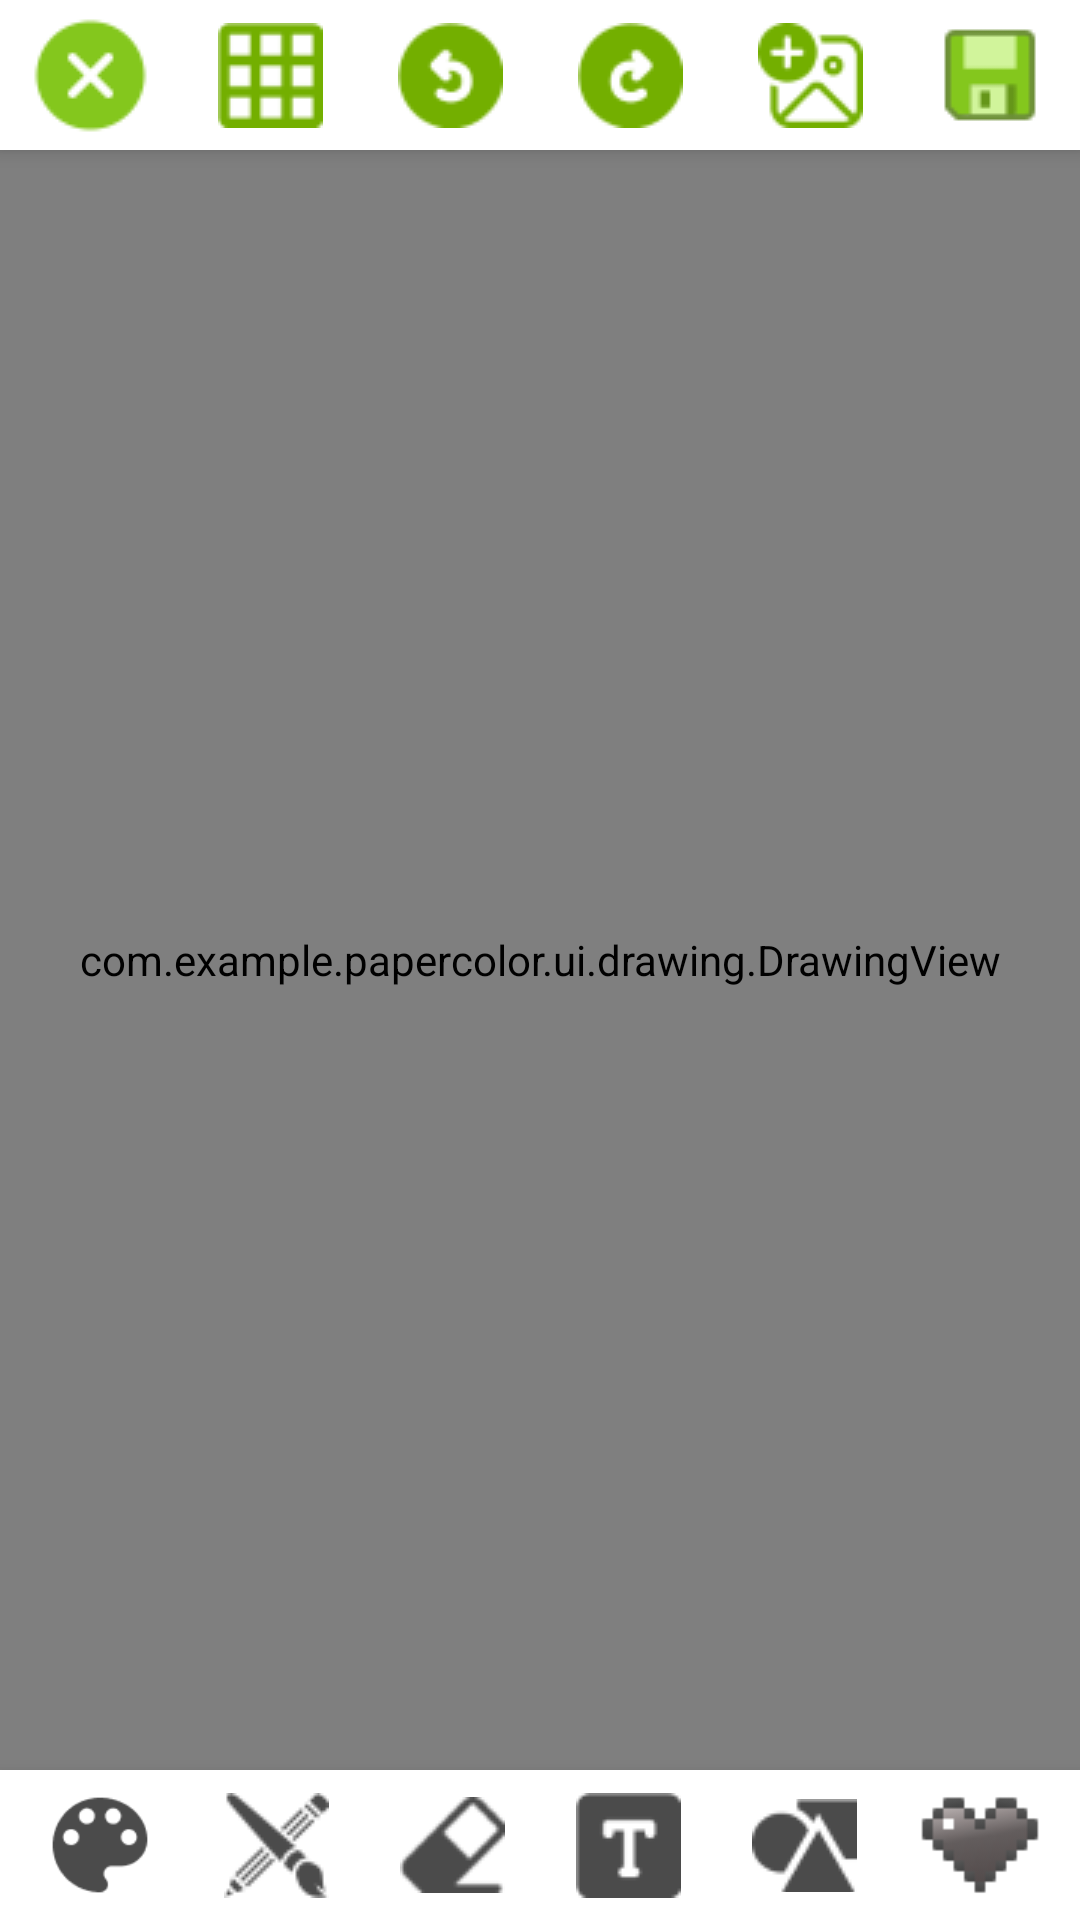

Screen size 1080x1920. Icon name, then its center in pixels as point (x, y):
brush: point (276, 1845)
delete: point (90, 75)
erasers: point (452, 1845)
geometry: point (804, 1845)
pixelmode: point (980, 1845)
redo: point (630, 75)
save: point (990, 75)
template: point (270, 75)
undo: point (450, 75)
